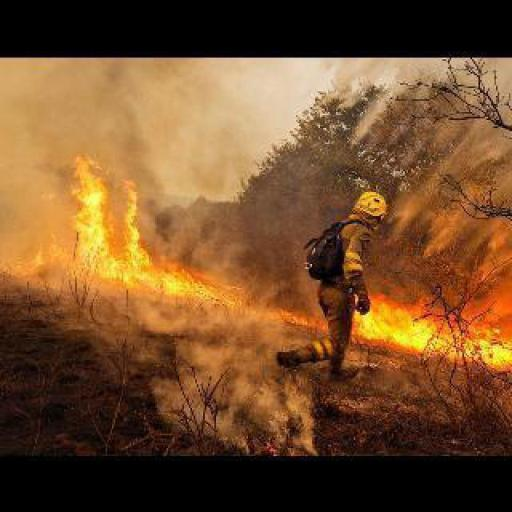smoke: (28, 157, 242, 310), (349, 288, 510, 373)
